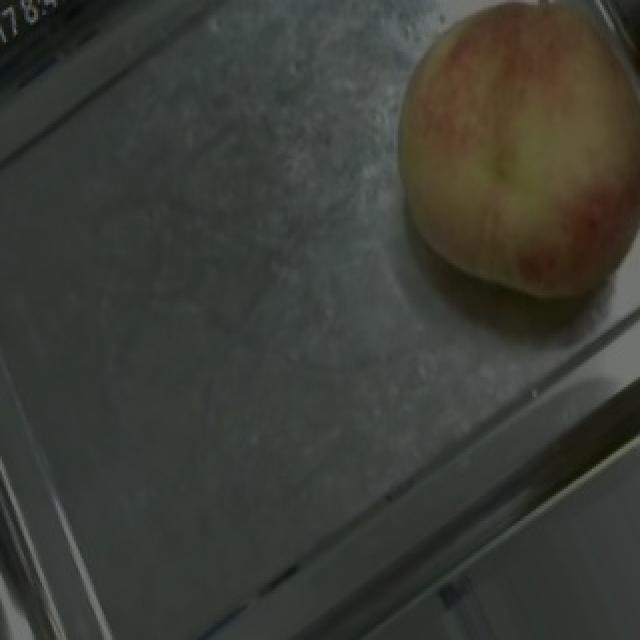Fruit: (350, 0, 640, 347)
